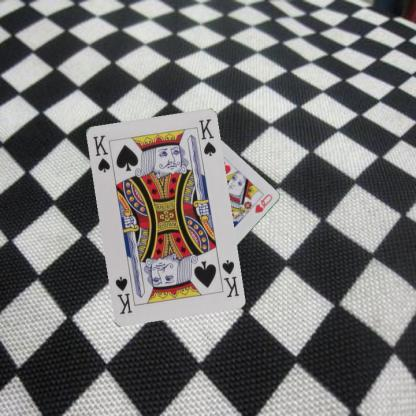Ks: (90, 132, 111, 173), (219, 257, 240, 298)
